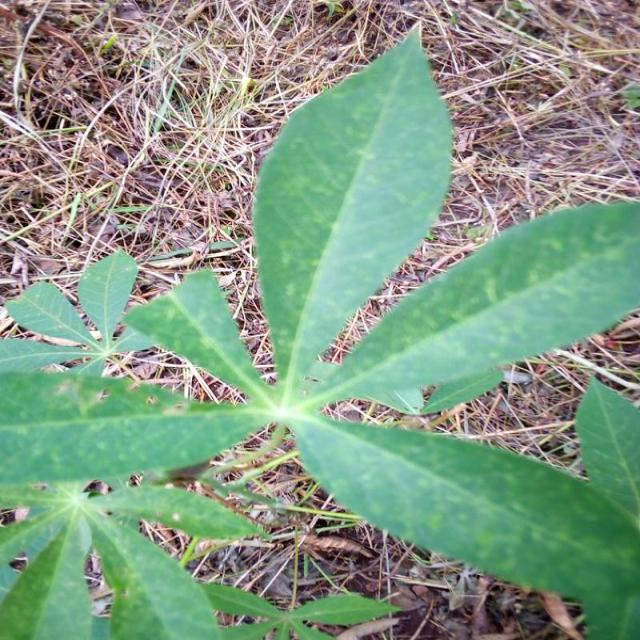cassava leaf: (1, 22, 638, 637), (291, 401, 638, 637), (252, 22, 454, 394), (302, 197, 638, 416)
